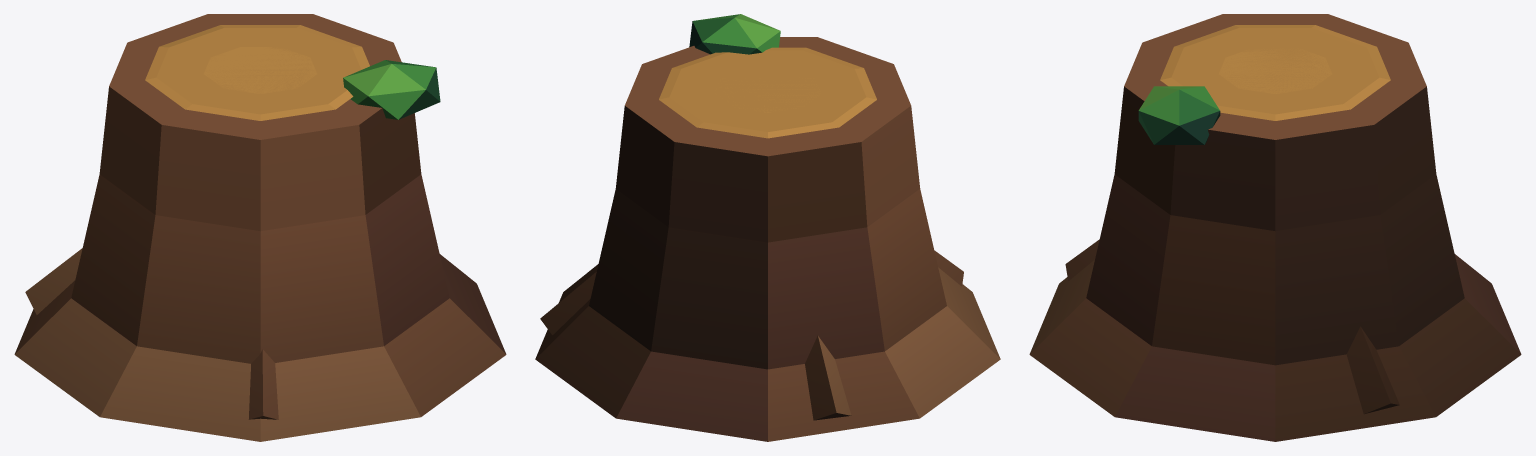
File: stump.glb
The picture shows the model from 3 angles, left to right: view 1: azimuth 30°, elevation 25°; view 2: azimuth 150°, elevation 25°; view 3: azimuth 270°, elevation 25°; orthographic projection. The views are drawn at different scales.
Visible parts, largest first — view 1: stump; view 2: stump; view 3: stump.
Boxes of the visible parts, x1,y1,x2,y2 form: stump: (14, 14, 506, 441); stump: (535, 14, 1000, 441); stump: (1029, 14, 1521, 441).
Bounding box in the file's own units: 0.5043 × 0.3556 × 0.5121.
